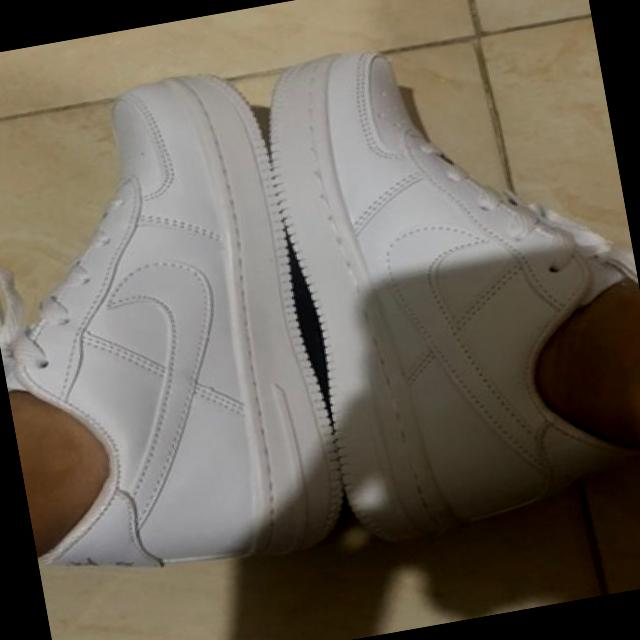nike_fake_airforce: (254, 6, 640, 560), (0, 56, 360, 599)
